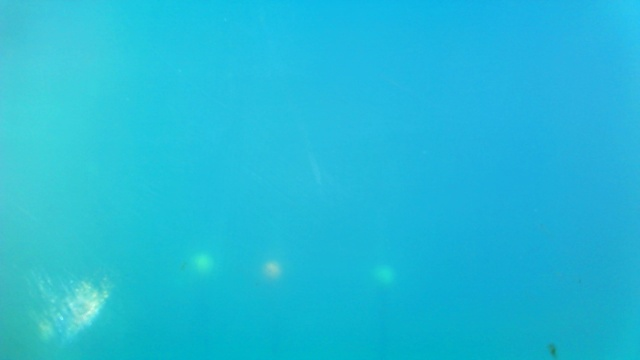buoy_red: (264, 260, 277, 273)
